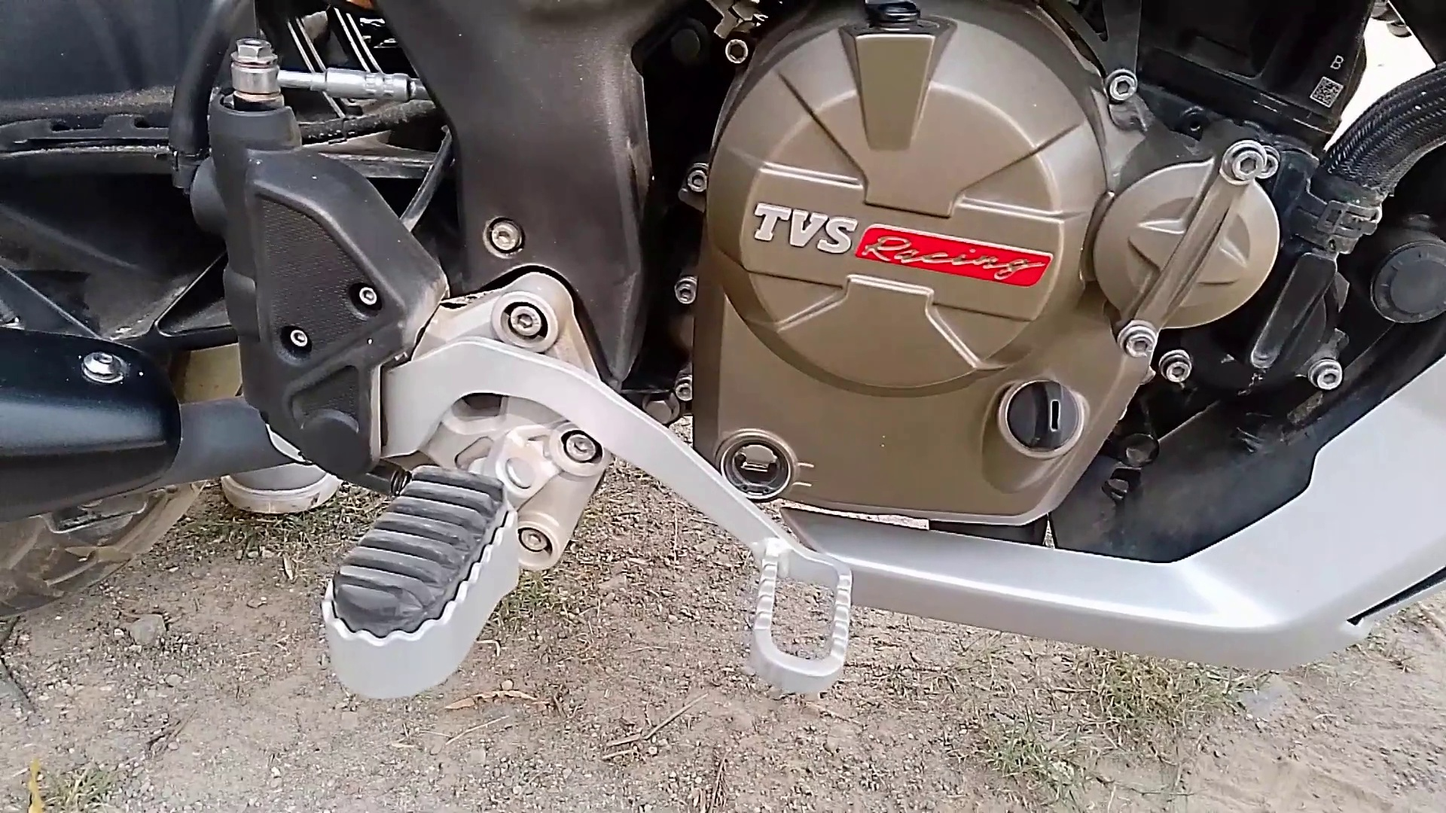engine: (659, 0, 1303, 559)
oil_cap: (990, 365, 1092, 470)
oil_marker: (699, 414, 840, 519)
